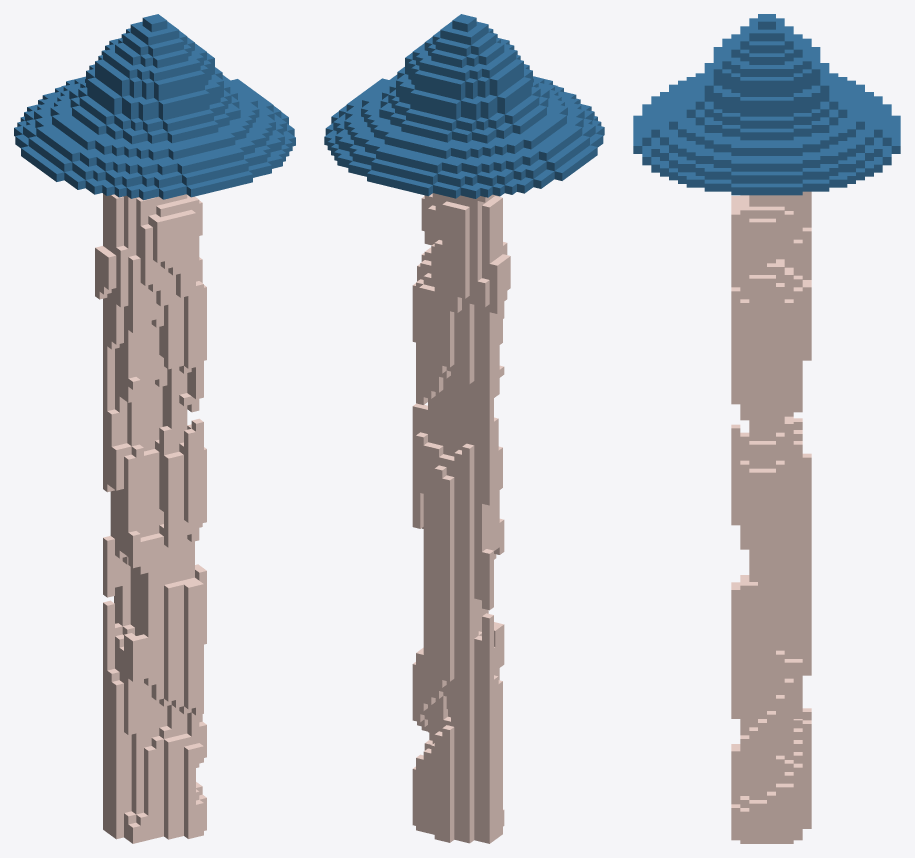
The model's file is Shroom7.obj.
3 views of the same model, side by side, from view 1: azimuth 30°, elevation 25°; view 2: azimuth 150°, elevation 25°; view 3: azimuth 270°, elevation 25° (orthographic).
Visible parts, largest first — view 1: Shroom7; view 2: Shroom7; view 3: Shroom7.
Part boxes in pixels (bbox=[...]): Shroom7: bbox=[14, 14, 295, 843]; Shroom7: bbox=[324, 14, 604, 843]; Shroom7: bbox=[633, 14, 900, 843].
Size of the model in its own units: 30 by 100 by 30.
1 material, 1 textured.
